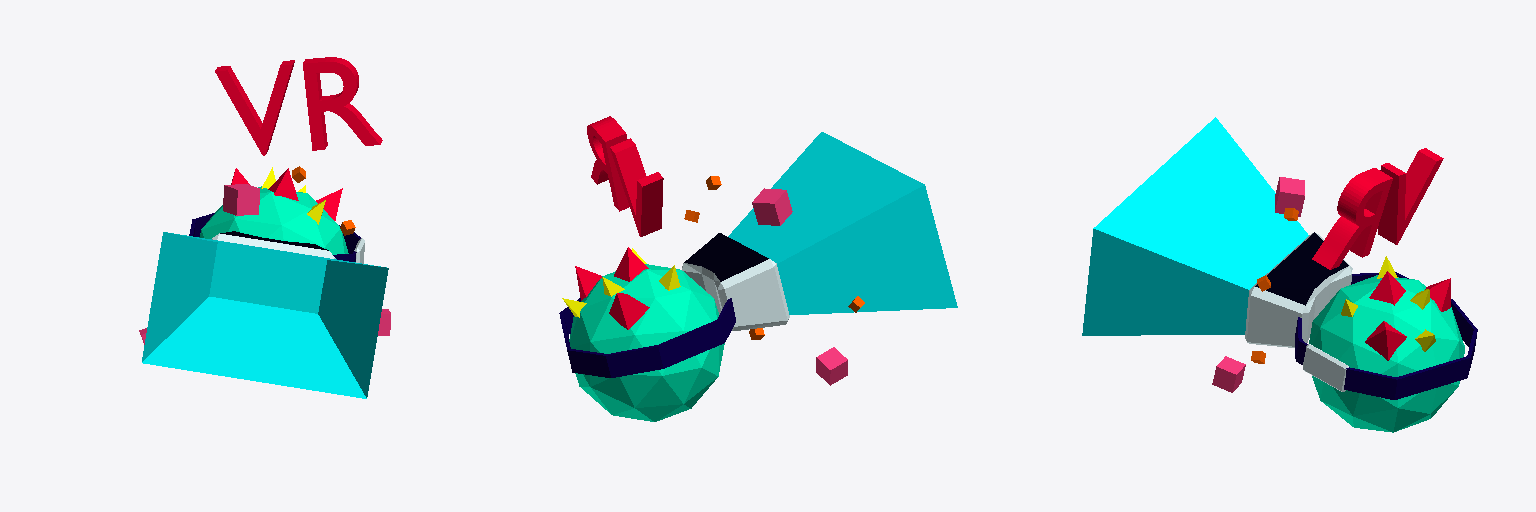
The model's file is planet_vr-2.obj.
3 renders of one model, left to right at view 1: azimuth 30°, elevation 25°; view 2: azimuth 150°, elevation 25°; view 3: azimuth 270°, elevation 25°, orthographic.
Parts seen in each view (by area): view 1: pCube19_Mesh.031, pCube12_Mesh.044, VR, pPlatonic20_Mesh.043, pCube15_Mesh.039, pCube13_Mesh.038; view 2: pCube19_Mesh.031, pPlatonic20_Mesh.043, pCube12_Mesh.044, VR, pCube13_Mesh.038, pCube15_Mesh.039, pPyramid3_Mesh.034, pCube24_Mesh.025, pPyramid2_Mesh.035; view 3: pCube19_Mesh.031, pPlatonic20_Mesh.043, VR, pCube12_Mesh.044, pCube13_Mesh.038, pCube14_Mesh.040, pCube15_Mesh.039, pPyramid1_Mesh.041, pCube18_Mesh.028, pPyramid2_Mesh.035, pPyramid3_Mesh.034.
Boxes of the visible parts, x1,y1,x2,y2 form: pCube19_Mesh.031: [142, 232, 388, 398]; pCube12_Mesh.044: [209, 231, 335, 313]; VR: [215, 57, 382, 155]; pPlatonic20_Mesh.043: [199, 186, 348, 254]; pCube15_Mesh.039: [223, 184, 259, 215]; pCube13_Mesh.038: [189, 213, 360, 261]; pCube19_Mesh.031: [728, 132, 957, 314]; pPlatonic20_Mesh.043: [569, 264, 724, 421]; pCube12_Mesh.044: [682, 233, 789, 330]; VR: [587, 116, 663, 236]; pCube13_Mesh.038: [559, 298, 735, 377]; pCube15_Mesh.039: [752, 188, 792, 225]; pPyramid3_Mesh.034: [609, 293, 649, 329]; pCube24_Mesh.025: [816, 347, 847, 385]; pPyramid2_Mesh.035: [614, 247, 648, 281]; pCube19_Mesh.031: [1082, 117, 1308, 335]; pPlatonic20_Mesh.043: [1309, 275, 1464, 432]; VR: [1312, 148, 1443, 269]; pCube12_Mesh.044: [1245, 232, 1352, 347]; pCube13_Mesh.038: [1295, 272, 1477, 399]; pCube14_Mesh.040: [1303, 344, 1348, 391]; pCube15_Mesh.039: [1275, 177, 1304, 216]; pPyramid1_Mesh.041: [1365, 321, 1406, 360]; pCube18_Mesh.028: [1212, 356, 1245, 392]; pPyramid2_Mesh.035: [1369, 271, 1405, 305]; pPyramid3_Mesh.034: [1425, 278, 1450, 311].
Bounding box in the file's own units: 0.5382 × 0.4648 × 0.6056.